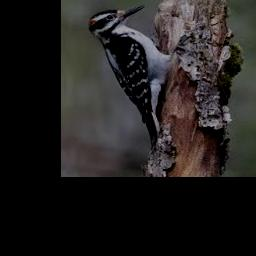Woodpecker: (89, 5, 172, 148)
